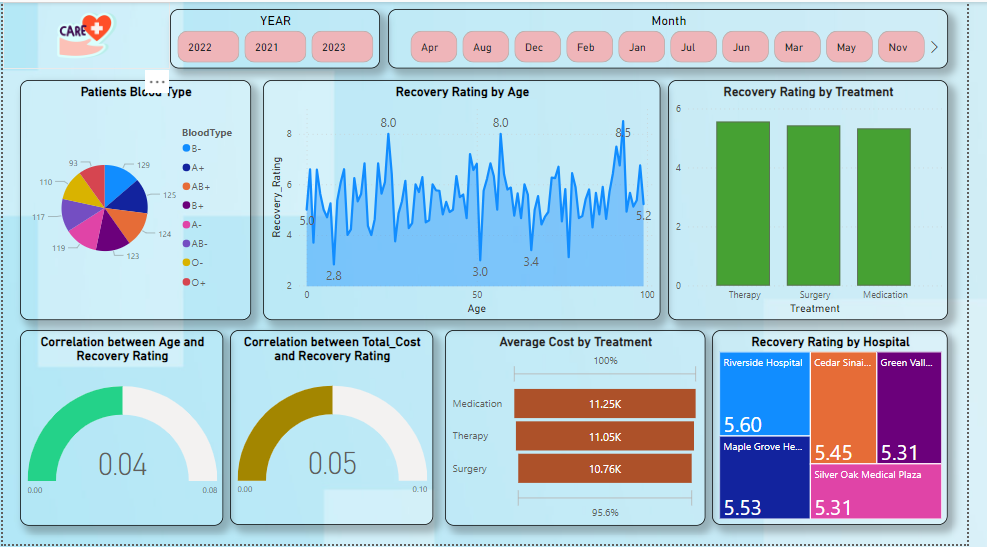

Layout of this report page (visuals, bound fields, positions):
{"tool":"powerbi","page":{"name":"Report 2","canvas":[1280,720],"ordinal":2},"visuals":[{"type":"advancedSlicerVisual","fields":{"Values":["one.Month"]},"box":[511,9.8,744.4,79.5],"z":0},{"type":"advancedSlicerVisual","title":"YEAR","fields":{"Values":["one.Year"]},"box":[222.5,9.8,278.7,79.5],"z":1000},{"type":"treemap","title":"Recovery Rating by Hospital","fields":{"Values":["mesures.Recovery_Rating"],"Group":["two.Hospital"]},"box":[942.5,435.2,312.9,259.2],"z":2000},{"type":"areaChart","title":"Recovery Rating by Age","fields":{"Y":["mesures.Recovery_Rating"],"Category":["one.Age"]},"box":[345.9,103.9,528.1,319],"z":3000},{"type":"pieChart","title":"Patients Blood Type","fields":{"Category":["one.BloodType"],"Y":["mesures.count_rows_one"]},"box":[22,103.9,306.8,319],"z":4000},{"type":"clusteredColumnChart","title":"Recovery Rating by Treatment","fields":{"Category":["one.Treatment"],"Y":["mesures.Recovery_Rating"]},"box":[883.8,103.9,371.6,319],"z":5000},{"type":"funnel","title":"Average Cost by Treatment","fields":{"Y":["mesures.cost_avarage_for_pateint"],"Category":["one.Treatment"]},"box":[586.8,435.2,345.9,260.4],"z":6000},{"type":"gauge","title":"Correlation between Age and Recovery Rating","fields":{"Y":["mesures.corr_age_recovery"]},"box":[22,435.2,270.2,260.4],"z":7000},{"type":"gauge","title":"Correlation between Total_Cost and Recovery Rating","fields":{"Y":["mesures.corr_TotalCost_recovery"]},"box":[301.9,435.2,270.2,259.2],"z":8000},{"type":"image","box":[0,0,222.5,89.2],"z":9000}]}

Visuals, with their boxes in screenshot pixels (x1, y1, x2, y2), scaled from the page's 1280x720 canvas onto the 987x547 screenshot:
advancedSlicerVisual - one.Month: <region>394, 7, 968, 68</region>
"YEAR" advancedSlicerVisual: <region>172, 7, 386, 68</region>
"Recovery Rating by Hospital" treemap: <region>727, 331, 968, 528</region>
"Recovery Rating by Age" areaChart: <region>267, 79, 674, 321</region>
"Patients Blood Type" pieChart: <region>17, 79, 254, 321</region>
"Recovery Rating by Treatment" clusteredColumnChart: <region>681, 79, 968, 321</region>
"Average Cost by Treatment" funnel: <region>452, 331, 719, 528</region>
"Correlation between Age and Recovery Rating" gauge: <region>17, 331, 225, 528</region>
"Correlation between Total_Cost and Recovery Rating" gauge: <region>233, 331, 441, 528</region>
image: <region>0, 0, 172, 68</region>
